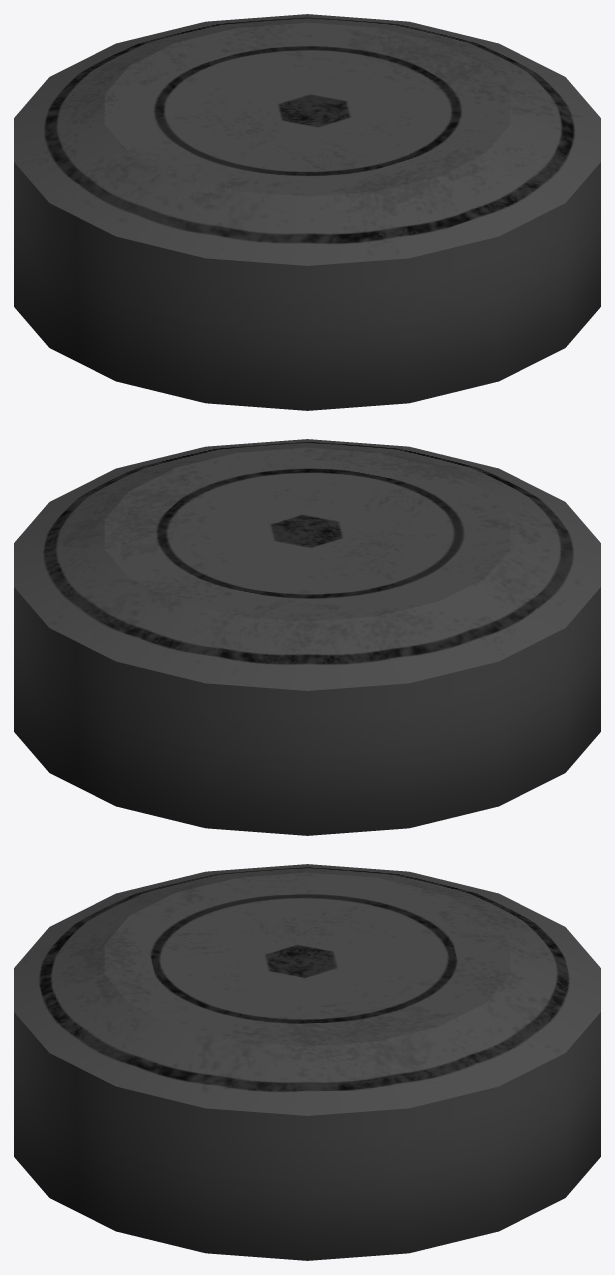
Rendered from SM_Pad.FBX.
3 renders of one model, top to bottom at view 1: azimuth 30°, elevation 25°; view 2: azimuth 150°, elevation 25°; view 3: azimuth 270°, elevation 25°, orthographic.
Visible parts, largest first — view 1: Cylinder007; view 2: Cylinder007; view 3: Cylinder007.
Part boxes in pixels (x1,y1,x2,y2): Cylinder007: (14,14,600,410); Cylinder007: (14,439,600,835); Cylinder007: (14,864,600,1260).
Bounding box in the file's own units: 250 × 246 × 81.12.
1 material, 1 textured.
